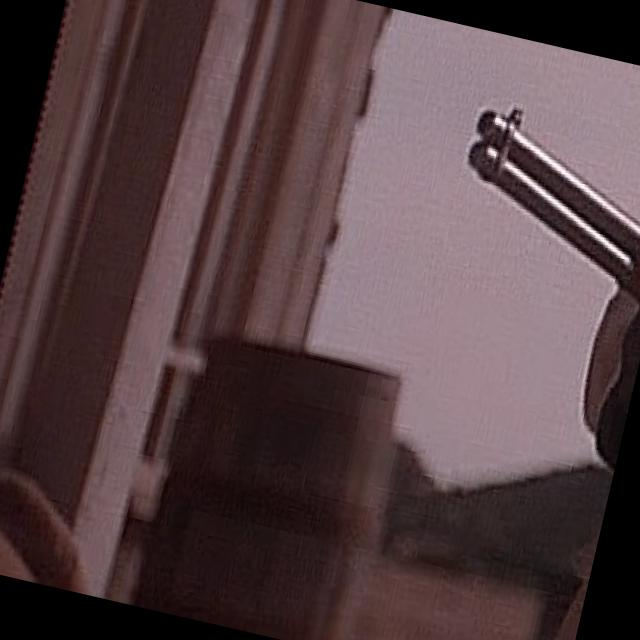Guns: (421, 30, 640, 362)
